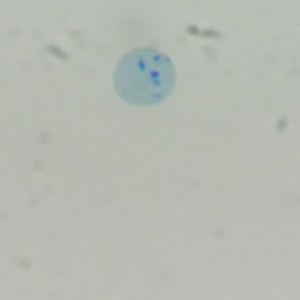aggregate reticulocyte: (110, 47, 178, 108)
